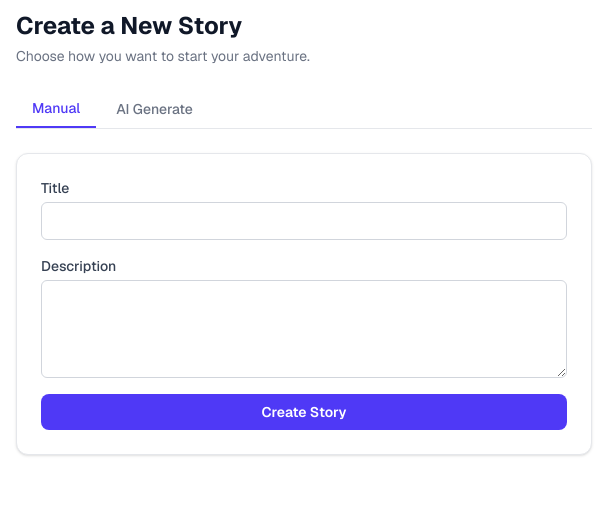
Test: NewStoryPage › shows validation errors on empty submit in manual mode
Step 1. Click the button "Create Story" → click(304, 412), box left=41, top=394, right=567, bottom=430
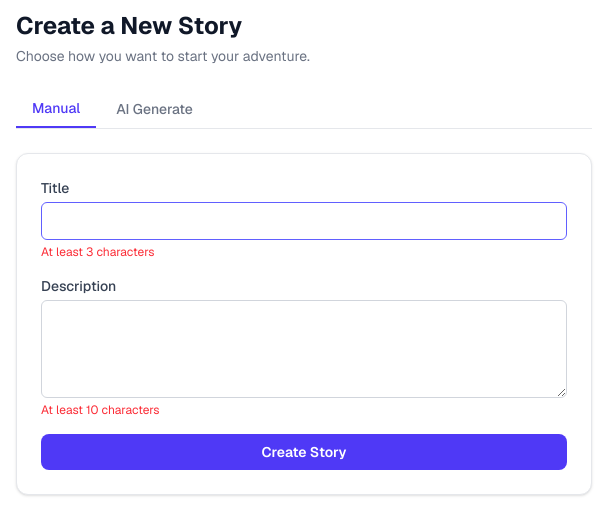
Result: the text "At least 3 characters" is shown at left=41, top=244, right=154, bottom=260
Result: the text "At least 10 characters" is shown at left=41, top=402, right=160, bottom=418
